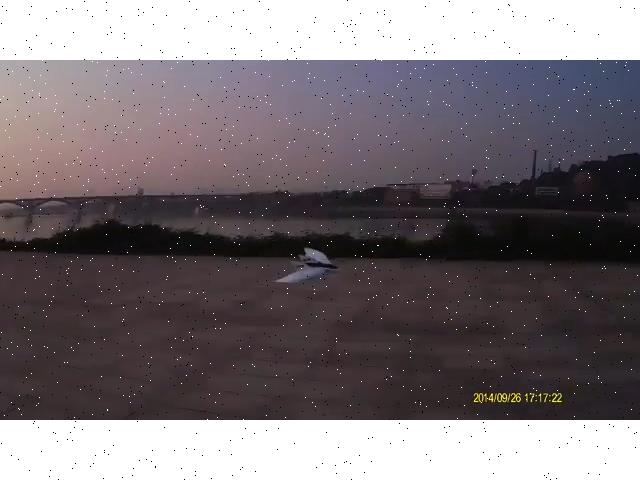Anti-Drone: (248, 214, 374, 322)
